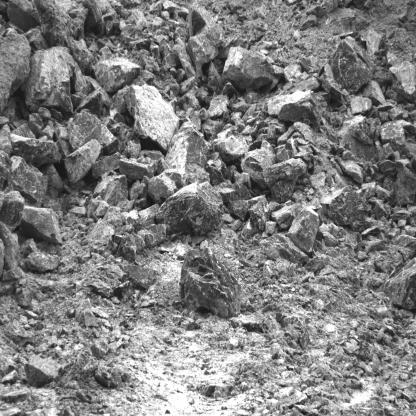stone: (180, 248, 241, 315), (21, 48, 76, 116), (125, 84, 180, 151), (157, 182, 223, 235), (185, 3, 228, 77), (0, 28, 32, 118), (166, 121, 209, 184), (329, 40, 373, 92), (68, 110, 119, 153), (222, 47, 275, 88), (94, 44, 140, 91), (319, 186, 367, 230), (263, 156, 307, 204), (377, 256, 416, 310), (378, 119, 415, 174), (266, 90, 322, 124), (10, 156, 48, 205), (11, 133, 63, 167), (63, 140, 101, 186), (241, 140, 276, 189), (288, 205, 320, 256), (19, 206, 62, 243), (26, 354, 64, 387), (389, 61, 416, 104), (92, 176, 128, 206), (0, 191, 25, 232), (395, 159, 416, 205), (74, 88, 103, 119), (119, 157, 158, 180), (214, 182, 253, 204), (319, 64, 343, 98), (214, 136, 245, 162), (248, 195, 271, 230), (93, 363, 125, 388), (137, 224, 170, 248), (25, 252, 60, 272), (126, 265, 154, 290), (270, 206, 295, 231), (207, 94, 227, 117), (28, 113, 44, 138), (351, 96, 372, 115)
